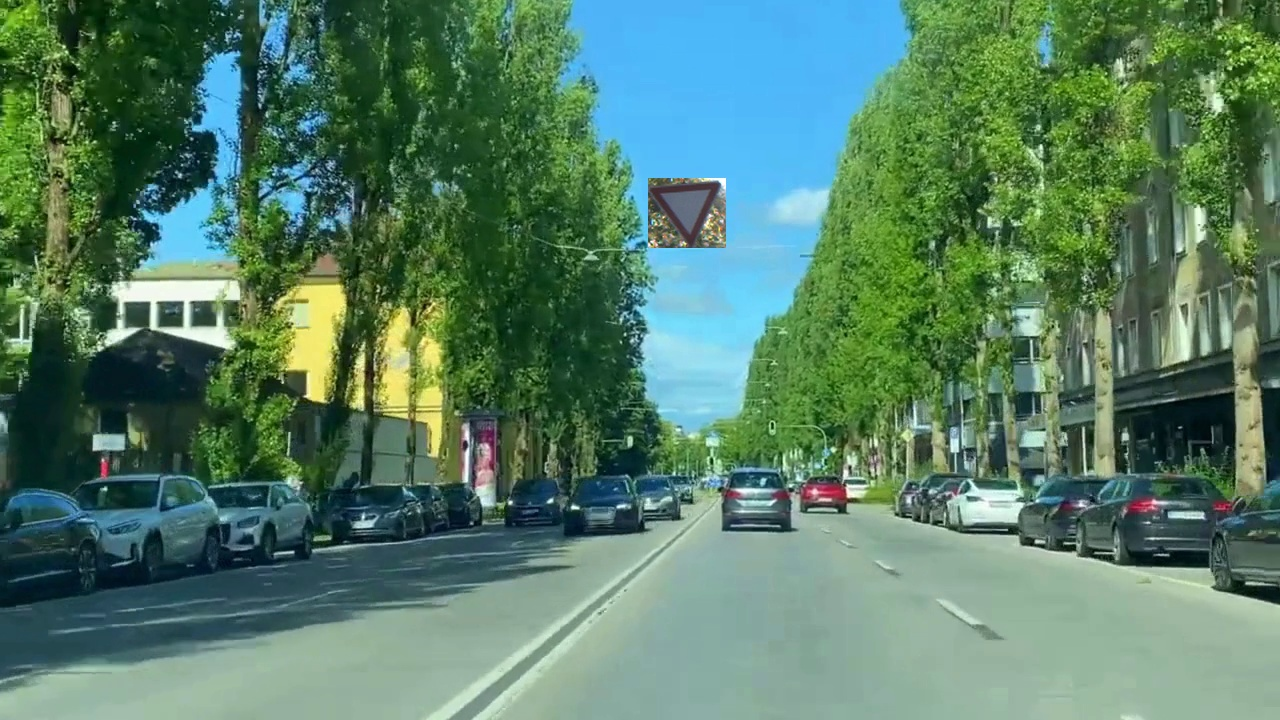Yield: (648, 178, 726, 248)
